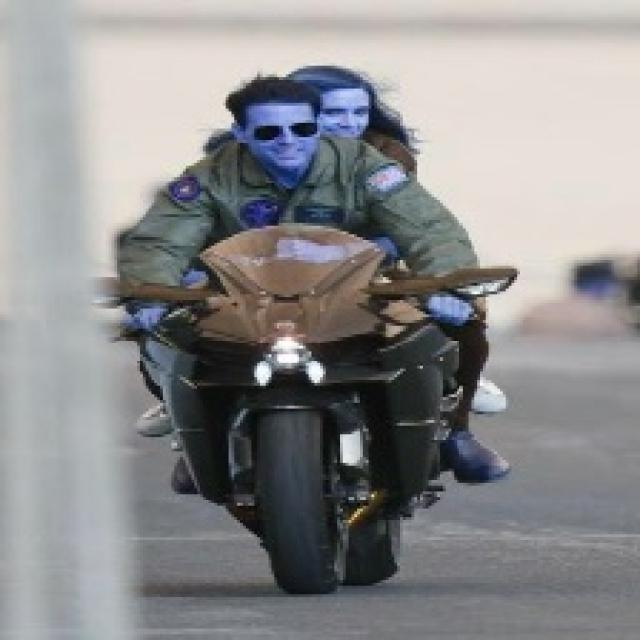motorcycle: (133, 231, 482, 609)
